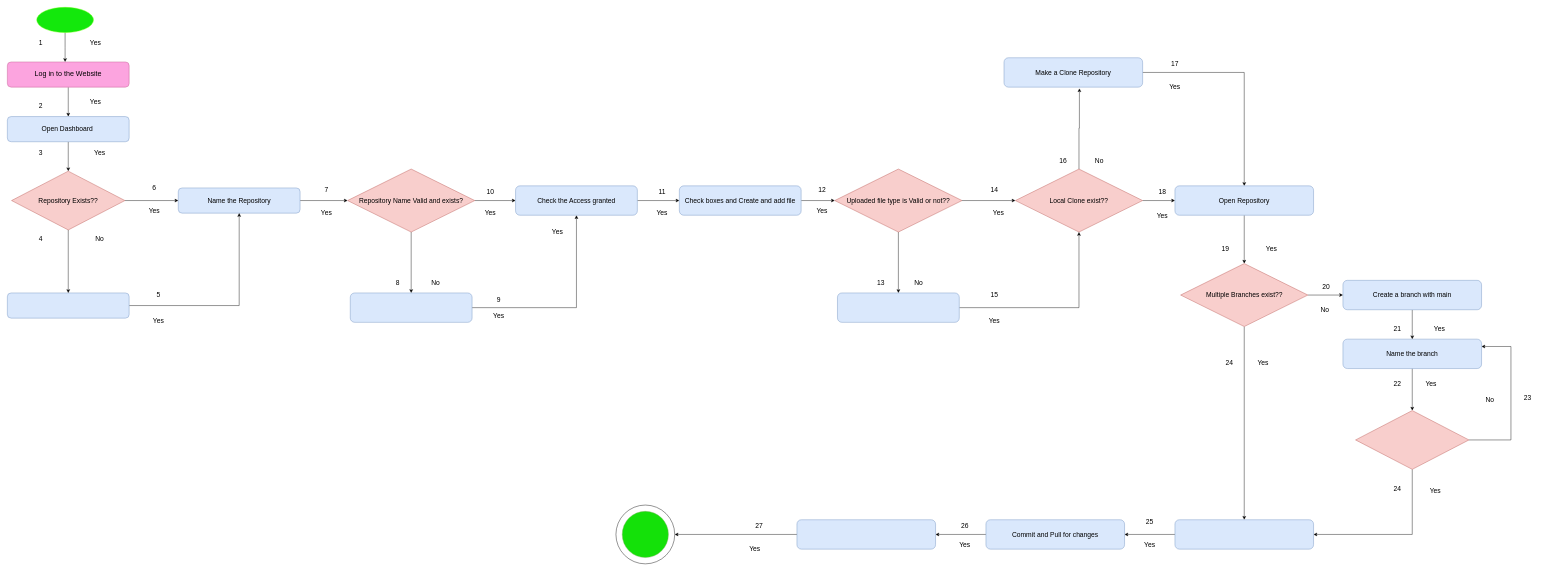
This 1548x571 diagram has some shape labels left out. The centre of each missing label's shape, as x and y in pixels:
Branch name Exists??: point 1412,439
Compare the changes by pull functionality: point 866,534
Create Online Repository: point 68,305
END: point 645,534
Select the Suitable name for repository.: point 411,307
START: point 64,20
Update the information in branch: point 1244,534
Upload file of a valid type: point 898,307
